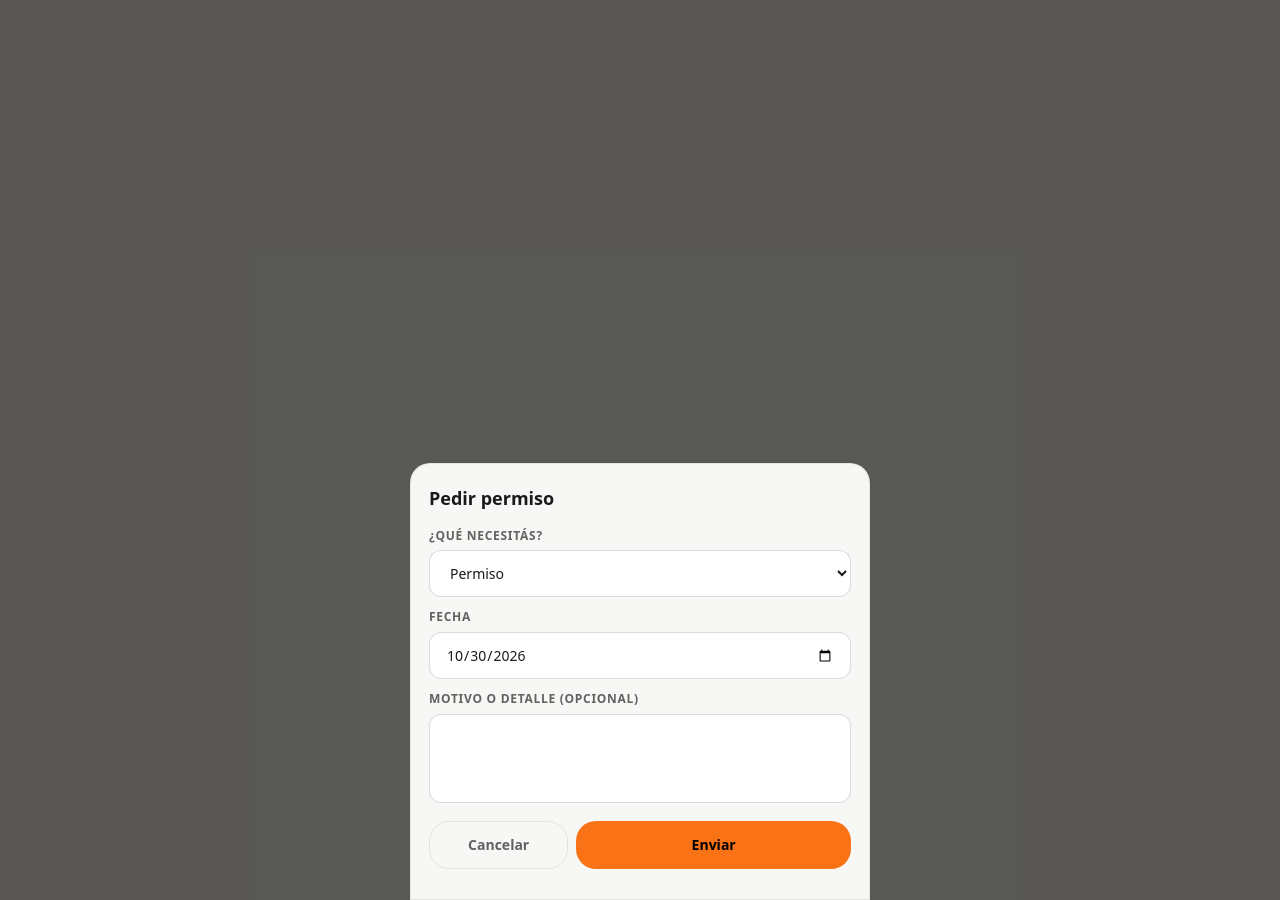
Test case: Nueva solicitud — avisa si el rango está al revés y no envía
Select "Vacaciones" in the dropdown labelled "¿Qué necesitás?". click: [640, 574]
box: [429,550,851,597]
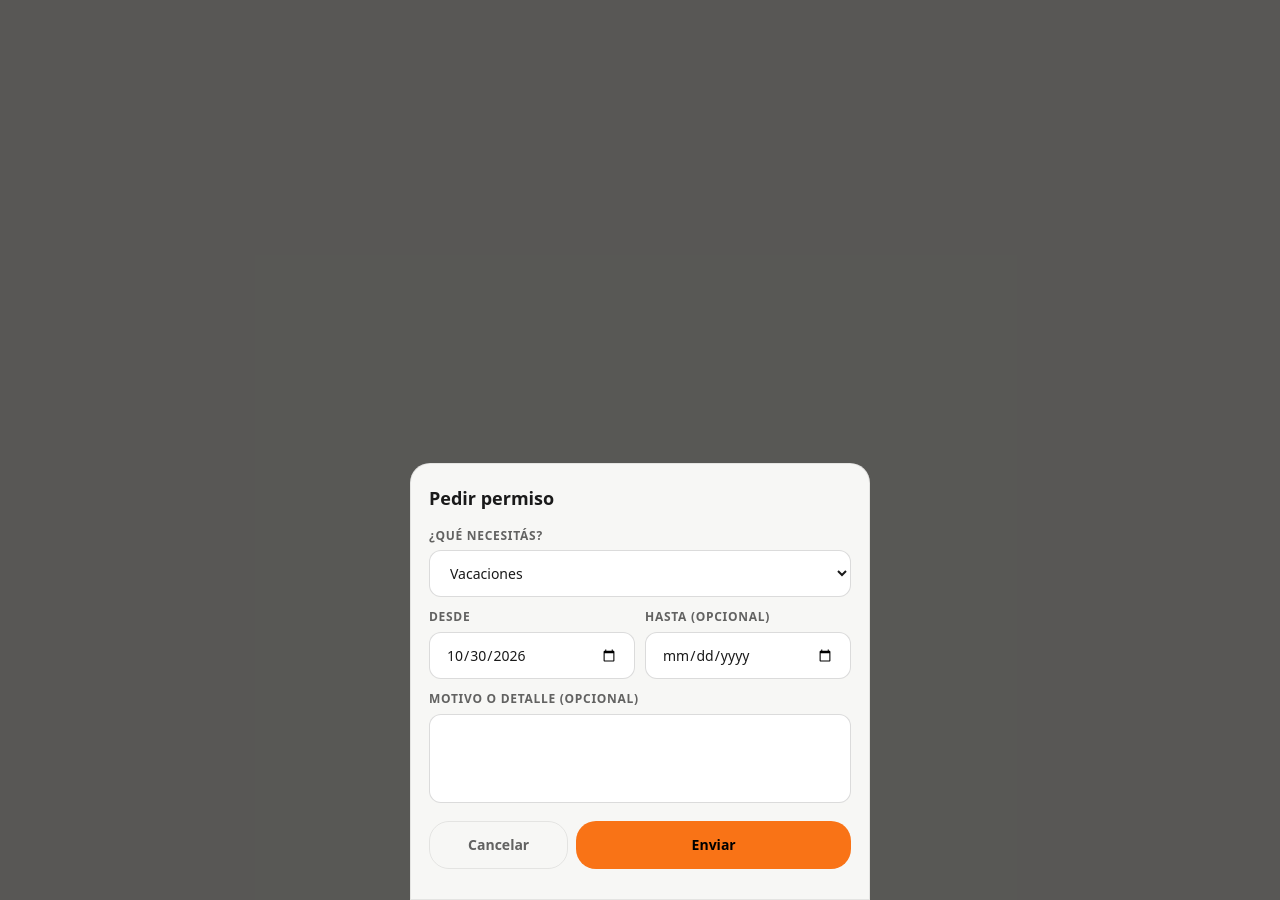
Type "2026-10-10" into the date field labelled "Desde". click: [532, 656]
box: [429,632,635,679]
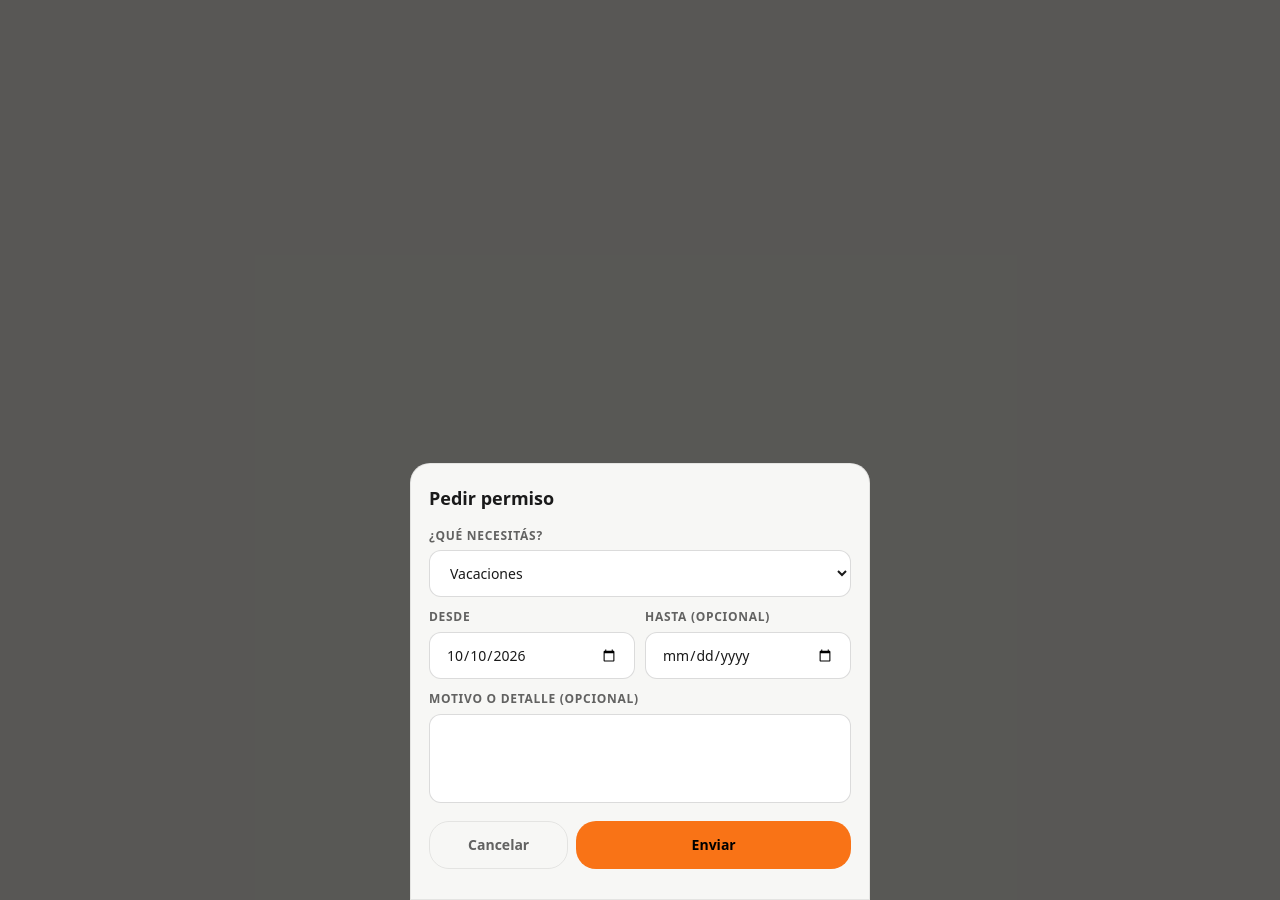
Type "2026-10-03" into the date field labelled "Hasta (opcional)". click: [748, 656]
box: [645,632,851,679]
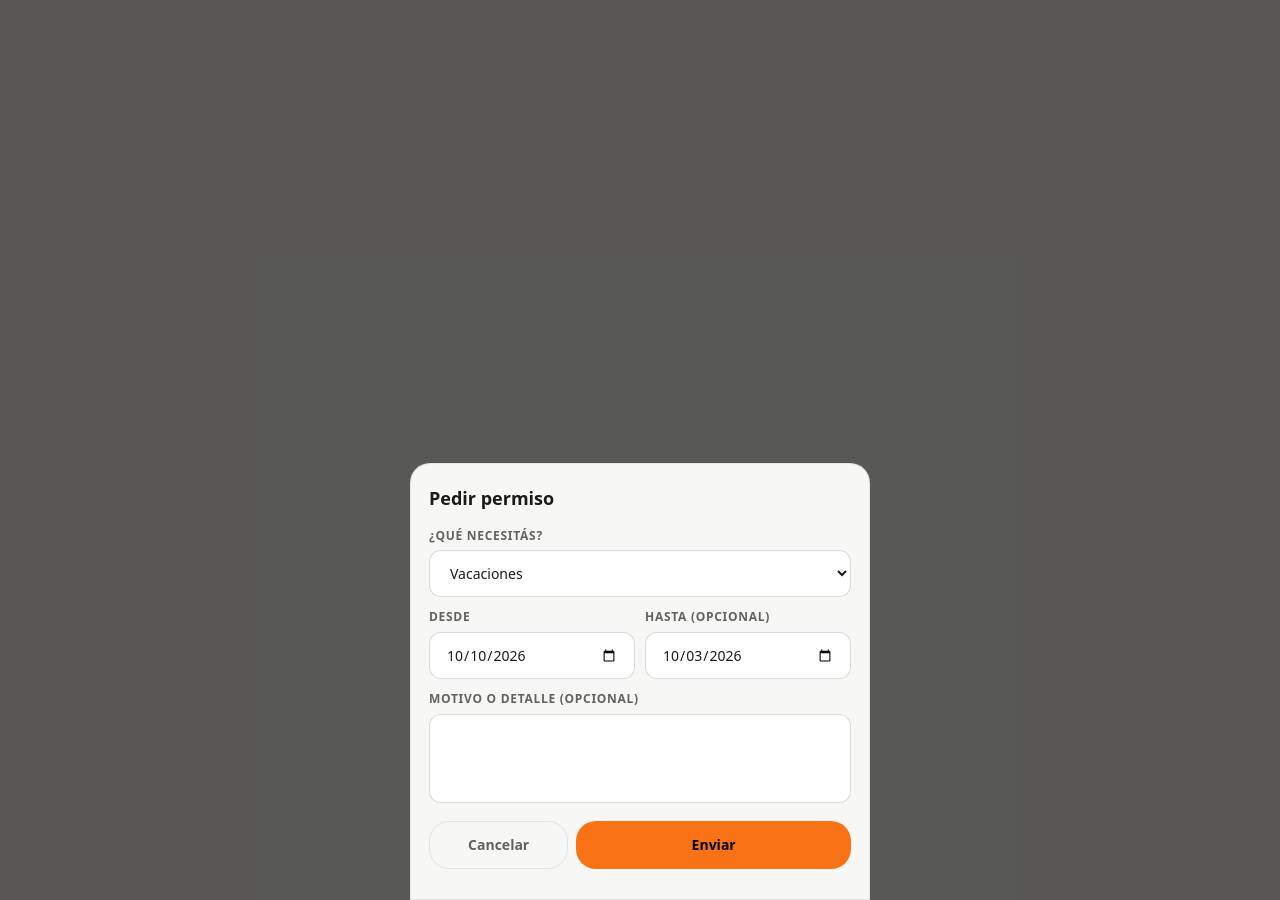
Click the button "Enviar". click: [714, 845]
box: [576,821,851,869]
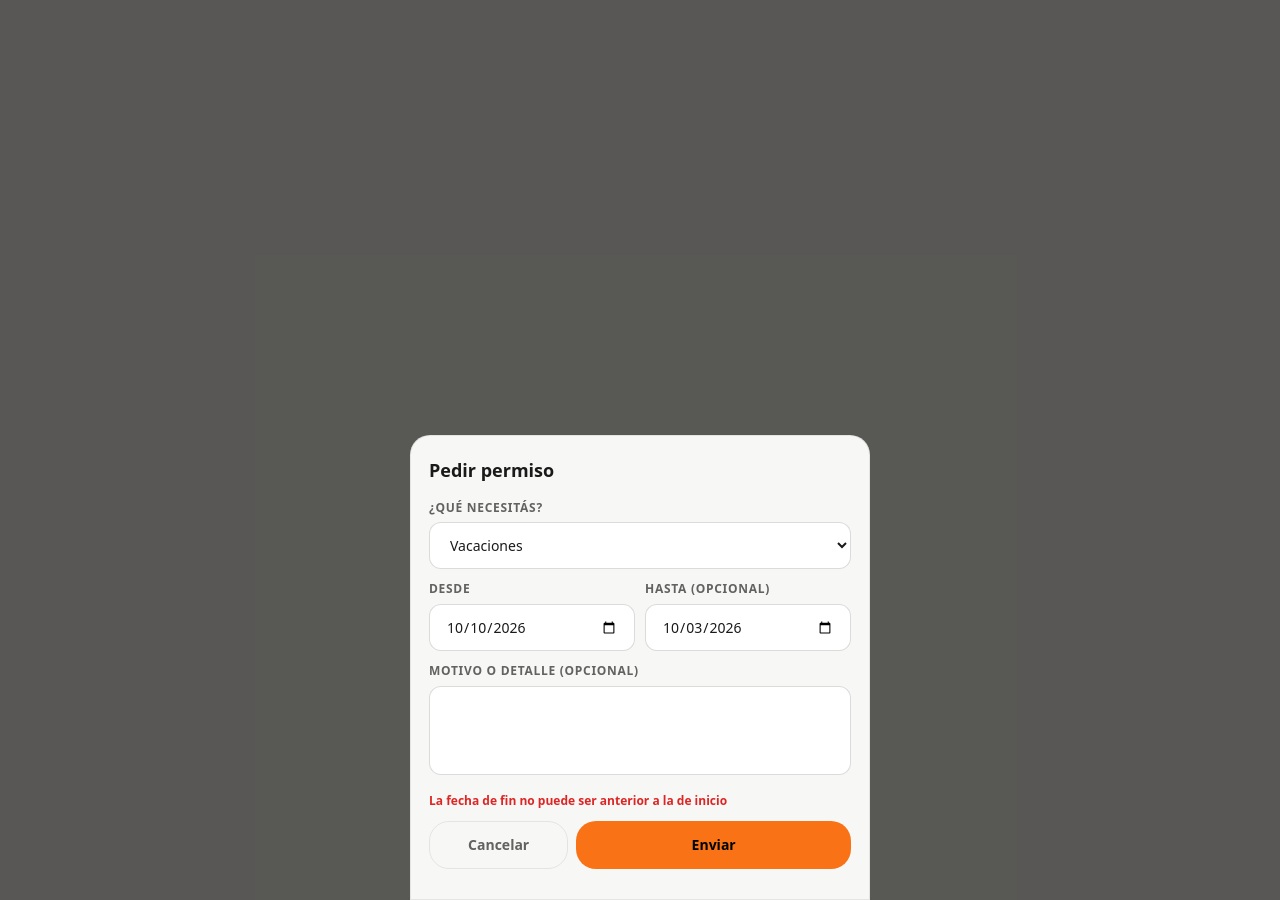
Expected: the message shows "anterior", [429,792,727,809]
